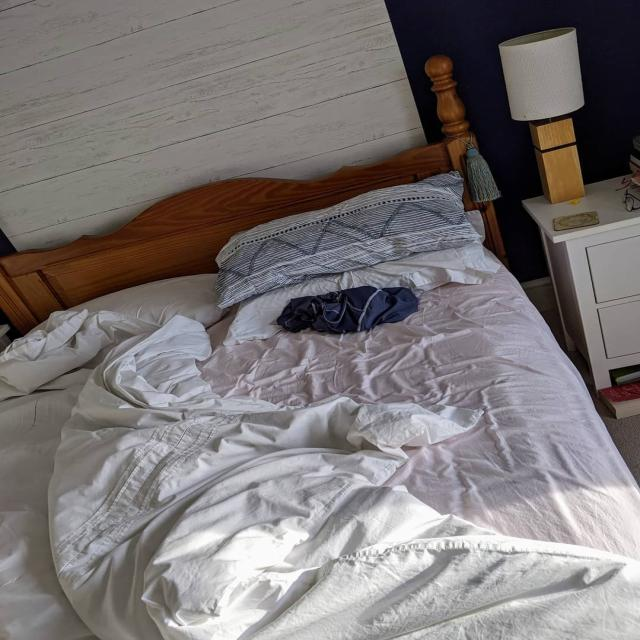bed: (8, 189, 581, 640)
